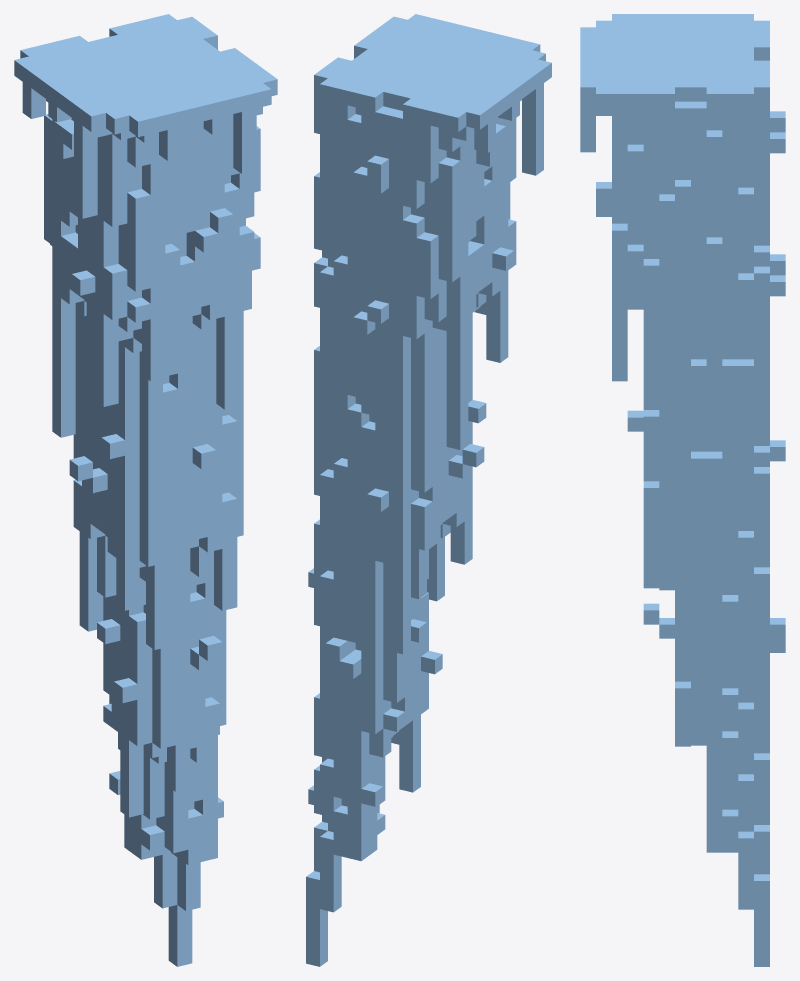
File: Icycle.obj
3 views of the same model, side by side, from view 1: azimuth 30°, elevation 25°; view 2: azimuth 150°, elevation 25°; view 3: azimuth 270°, elevation 25° (orthographic). The views are drawn at different scales.
Size of the model in its own units: 1.3 by 6.1 by 1.3.
Materials: 1 (1 with a texture image).
